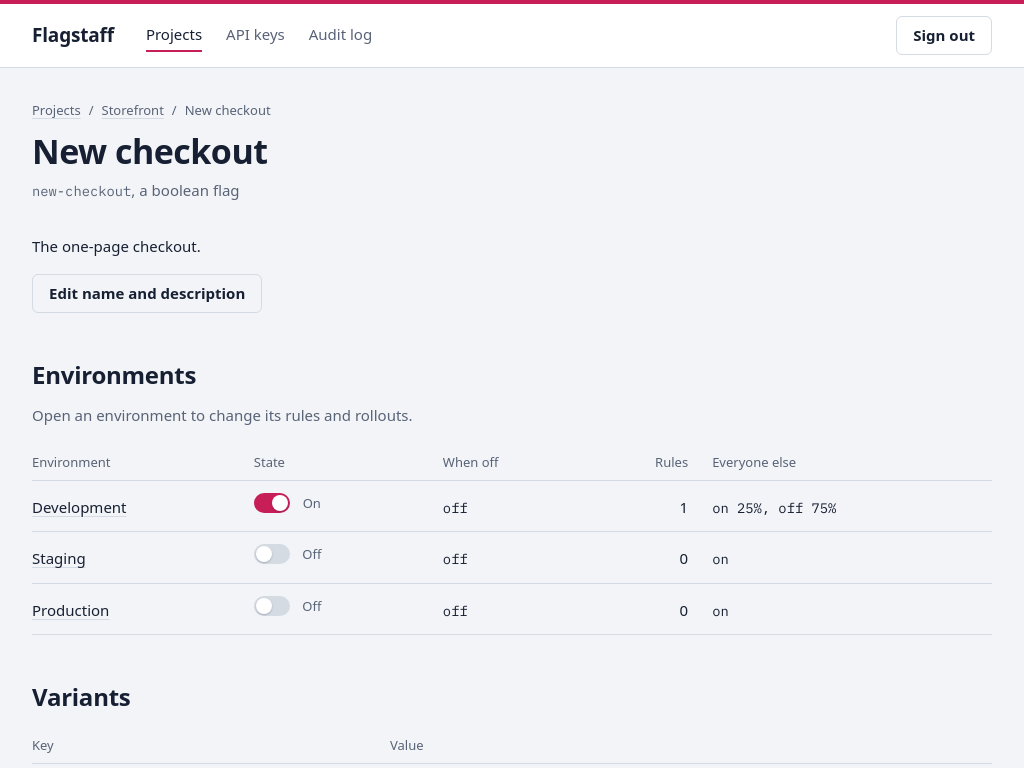
editing a flag's name and description › keeps the edit on screen when someone else changed the flag first
The width and height of the screenshot is (1024, 768).
Click the button "Edit name and description": x=147, y=293 x1=32 y1=274 x2=262 y2=313
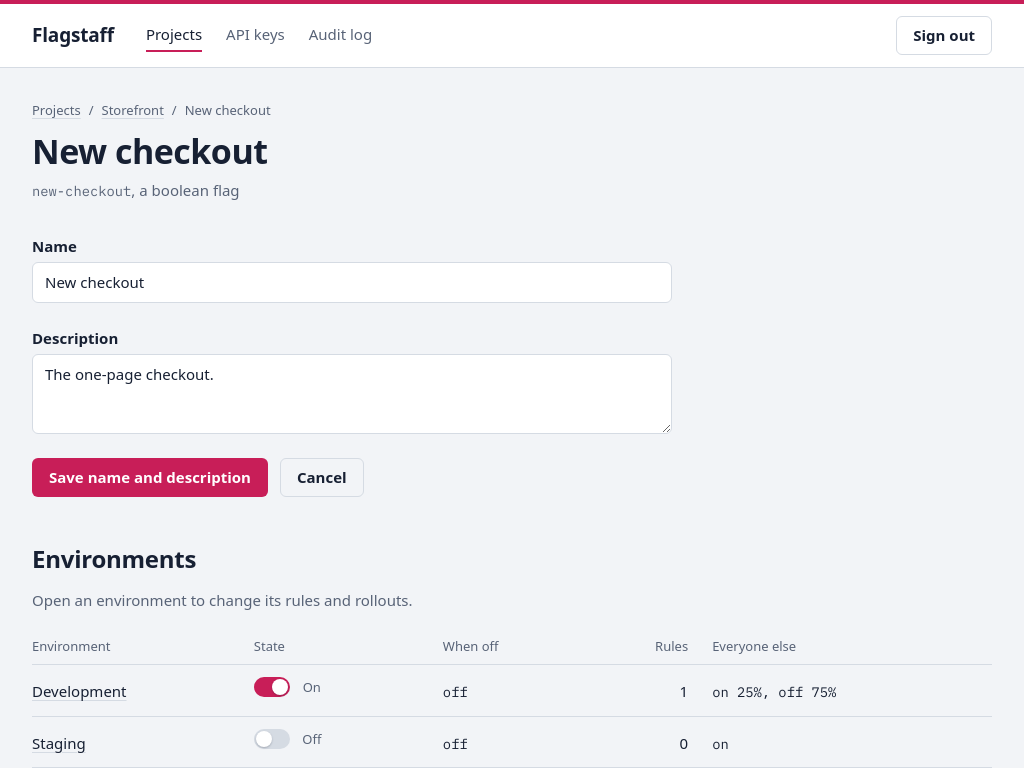
In the field labelled "Name": x=352, y=283 x1=32 y1=262 x2=672 y2=303, type " v2"
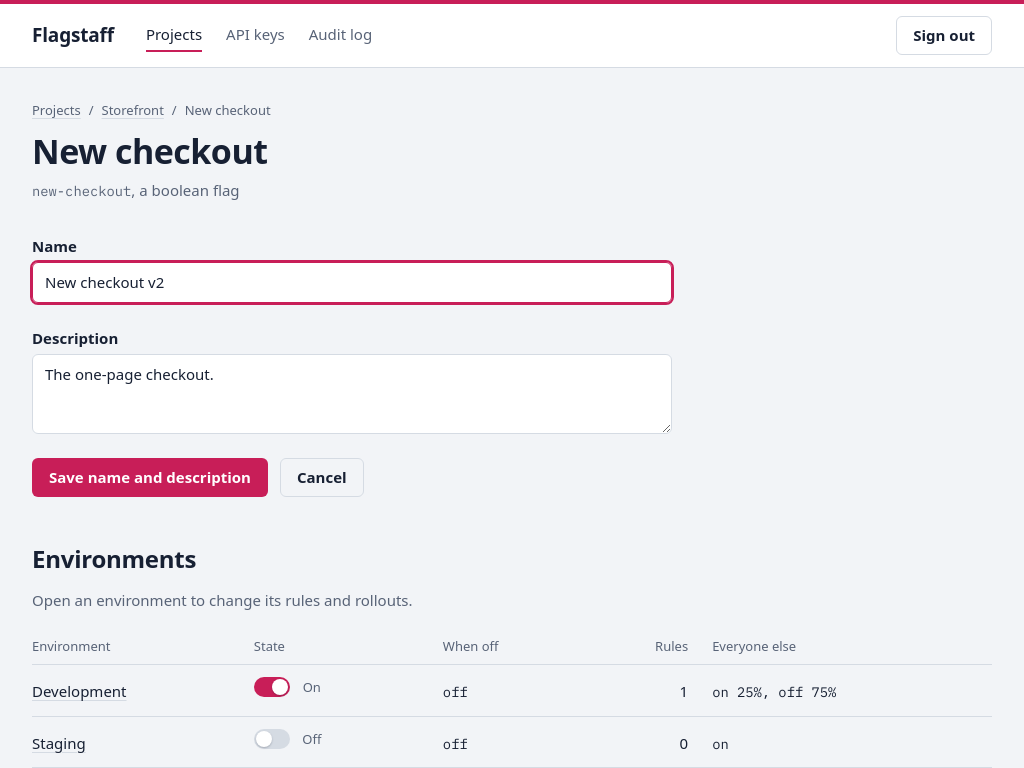
Click the button "Save name and description": x=150, y=478 x1=32 y1=458 x2=268 y2=497
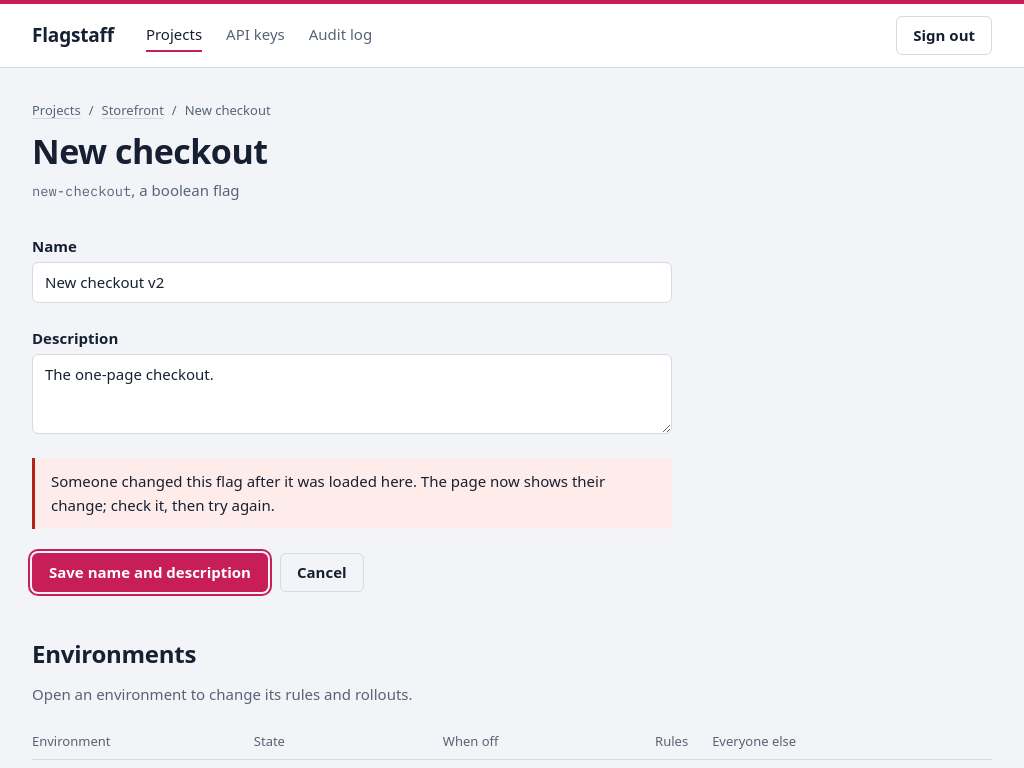
Now the field labelled "Name" holds "New checkout v2", box x1=32 y1=262 x2=672 y2=303
Now the message shows "Someone changed this flag", box x1=51 y1=471 x2=605 y2=515
